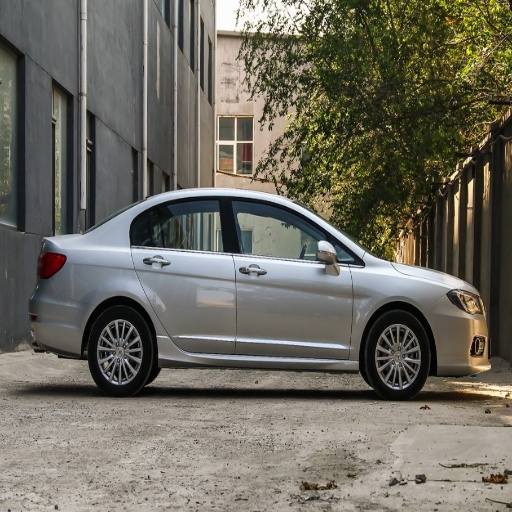back_right_door: (134, 195, 235, 354)
front_right_door: (230, 196, 353, 356)
